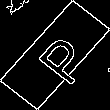P_NW: (22, 25, 88, 85)
